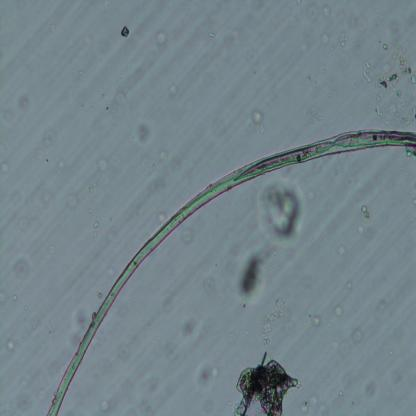Background material: (362, 41, 416, 128), (230, 348, 300, 415), (259, 181, 303, 245), (237, 251, 272, 301), (380, 3, 416, 34), (262, 298, 284, 348), (193, 357, 220, 394), (12, 246, 38, 284), (176, 308, 203, 344), (297, 385, 328, 416), (3, 382, 36, 411), (36, 126, 61, 162), (301, 0, 336, 25), (145, 168, 176, 196), (299, 97, 325, 128), (70, 310, 88, 345), (64, 188, 84, 218), (150, 22, 172, 47), (177, 219, 196, 247), (111, 84, 134, 107), (134, 119, 154, 144), (303, 304, 324, 326), (345, 16, 370, 34), (250, 107, 265, 135), (13, 88, 30, 112), (116, 339, 133, 362), (356, 224, 378, 241), (315, 28, 332, 49), (333, 238, 346, 261), (203, 273, 216, 296), (97, 154, 111, 174), (18, 214, 31, 234), (294, 40, 310, 56), (351, 322, 362, 343), (157, 145, 169, 164), (0, 155, 11, 175), (338, 340, 350, 358), (90, 215, 102, 232), (98, 399, 111, 414), (5, 338, 17, 354), (119, 25, 131, 39), (367, 387, 377, 403), (332, 305, 344, 318), (361, 204, 370, 221), (170, 85, 180, 98), (340, 32, 348, 48), (13, 292, 20, 301), (207, 32, 216, 39)
Microfibre: (43, 131, 416, 415)
